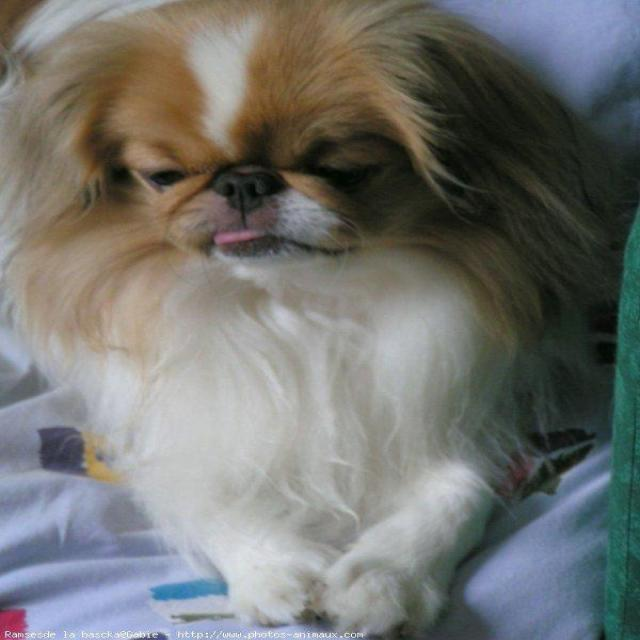husky: (6, 0, 638, 634)
